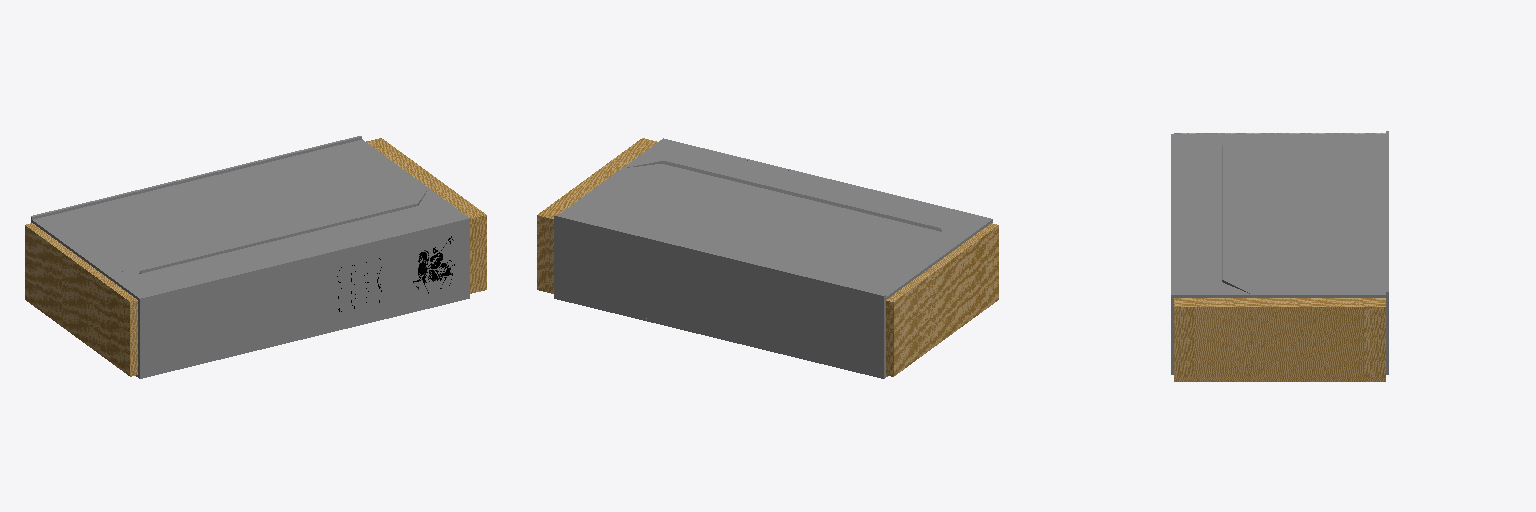
3 views of the same model, side by side, from view 1: azimuth 30°, elevation 25°; view 2: azimuth 150°, elevation 25°; view 3: azimuth 270°, elevation 25° (orthographic).
Visible parts, largest first — view 1: Box027, Box030, Box023, Box029, Plane001, Box022, Box024, Box026, Plane003; view 2: Box026, Box030, Box023, Box029, Plane001, Box024, Box028; view 3: Box030, Box024, Box029, Plane001, Box022, Box021, Box025, Box027, Box026.
Boxes of the visible parts, box(x1,y1,x2,y2) form: Box027: box(138, 217, 469, 378); Box030: box(32, 139, 428, 273); Box023: box(25, 223, 136, 375); Box029: box(39, 189, 467, 299); Plane001: box(230, 161, 354, 225); Box022: box(130, 215, 486, 376); Box024: box(366, 138, 485, 218); Box026: box(31, 136, 361, 222); Plane003: box(413, 236, 454, 293); Box026: box(554, 214, 885, 378); Box030: box(559, 161, 951, 299); Box023: box(886, 223, 998, 376); Box029: box(623, 140, 991, 292); Plane001: box(640, 182, 764, 246); Box024: box(537, 138, 656, 293); Box028: box(554, 296, 887, 378); Box030: box(1222, 134, 1386, 353); Box024: box(1175, 298, 1385, 376); Box029: box(1174, 134, 1388, 297); Plane001: box(1237, 228, 1378, 254); Box022: box(1174, 133, 1194, 376); Box021: box(1365, 307, 1385, 376); Box025: box(1174, 377, 1385, 381); Box027: box(1171, 134, 1173, 372); Box026: box(1386, 131, 1388, 372).
Size of the model in its own units: 400 by 89.05 by 212.
7 materials, 3 textured.